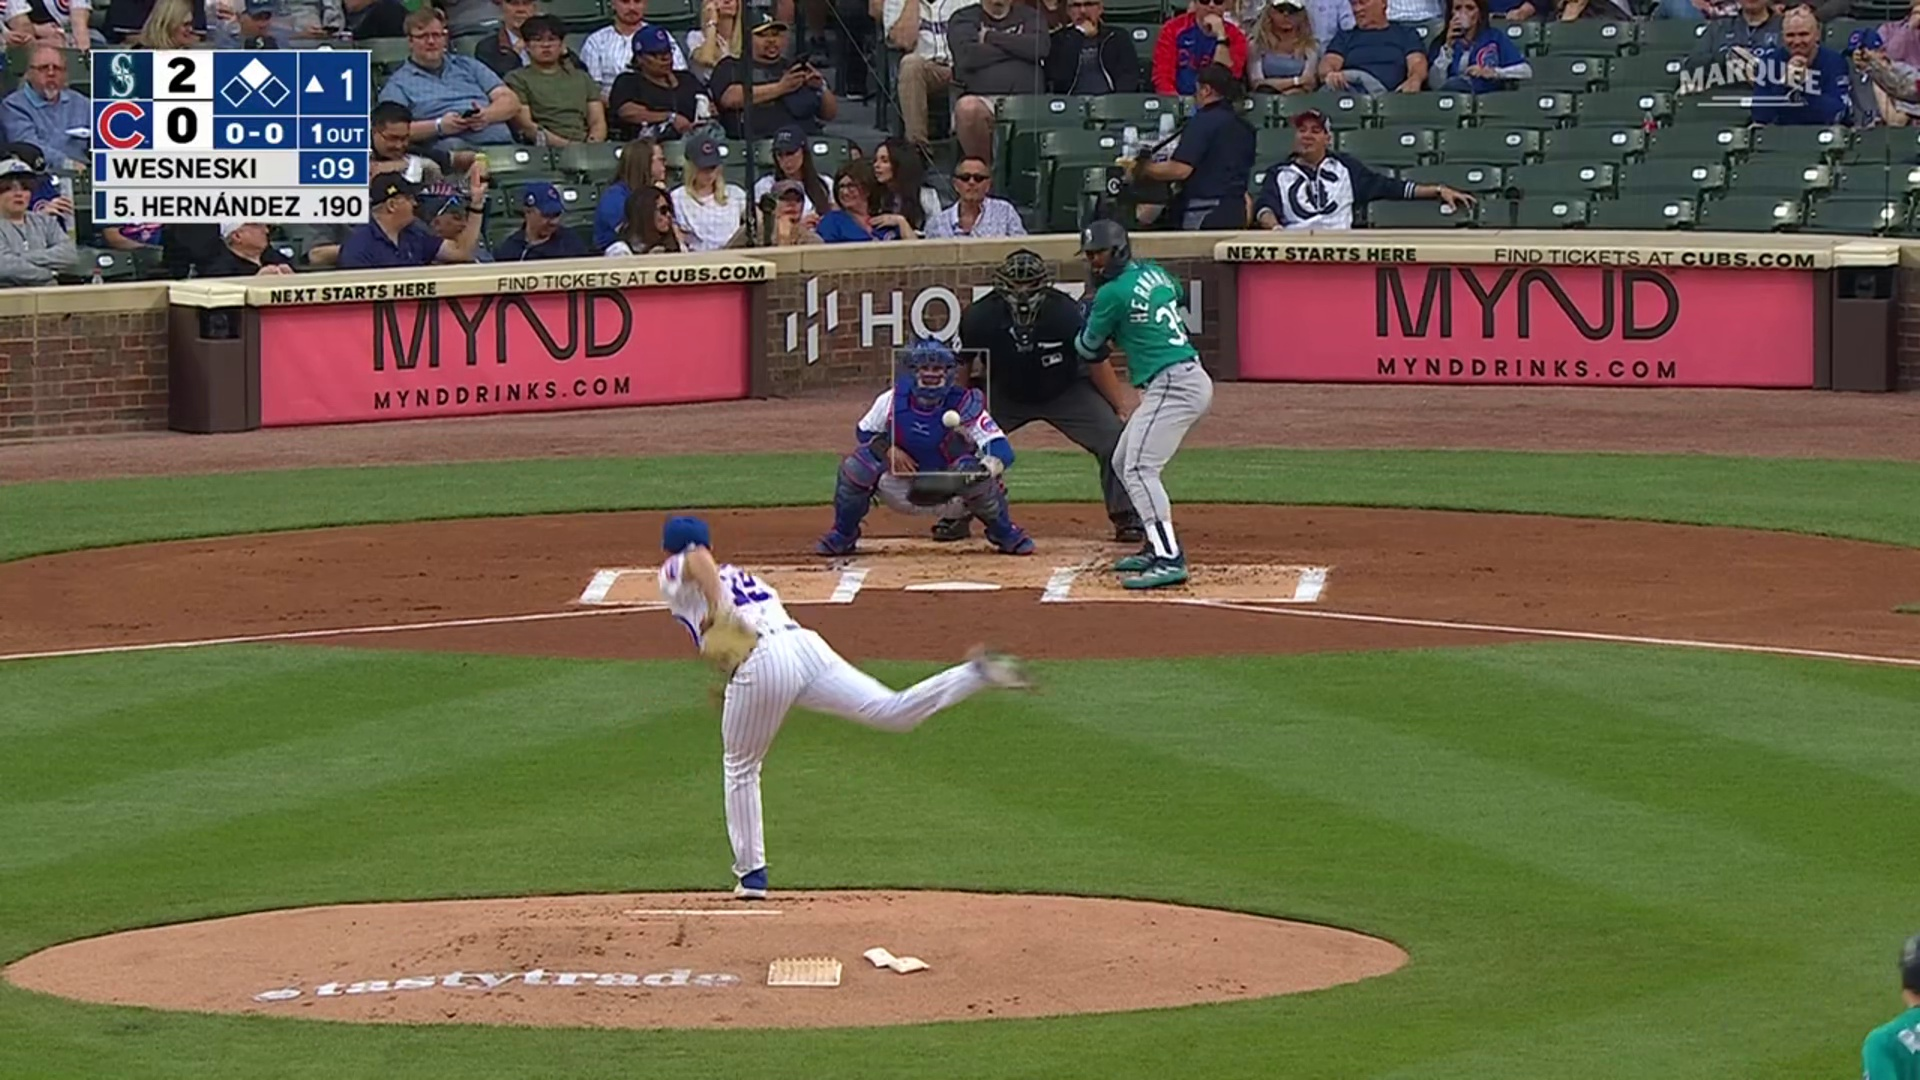baseball: (942, 409, 959, 426)
